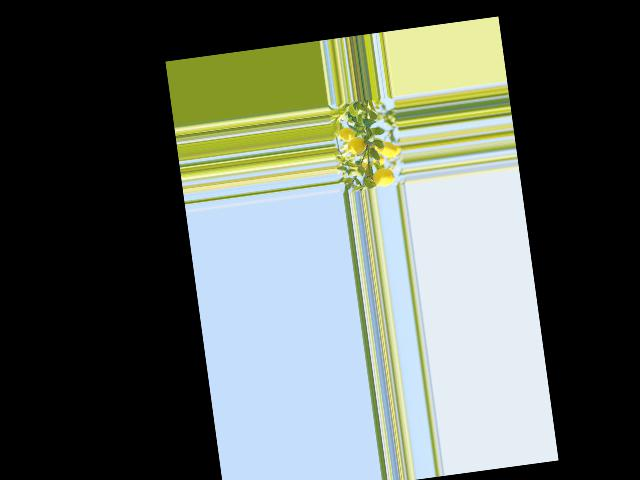lemon: (369, 165, 398, 188)
